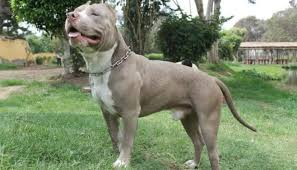Perro Pitbull: (55, 2, 154, 163)
